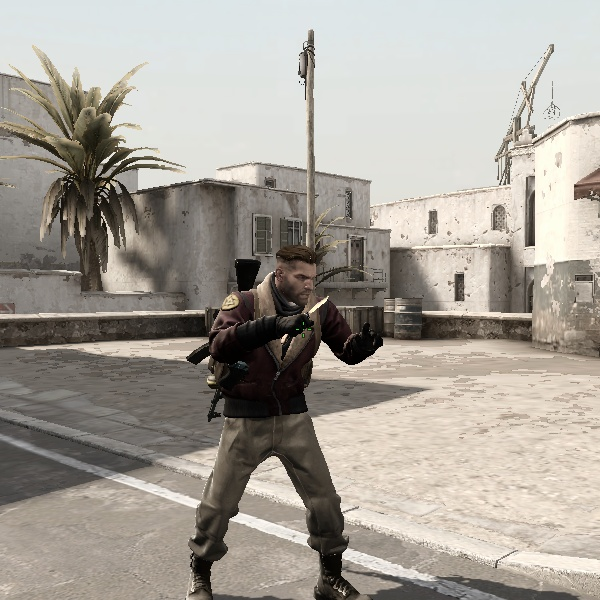t_body: (175, 251, 366, 598)
t_head: (259, 247, 327, 323)
